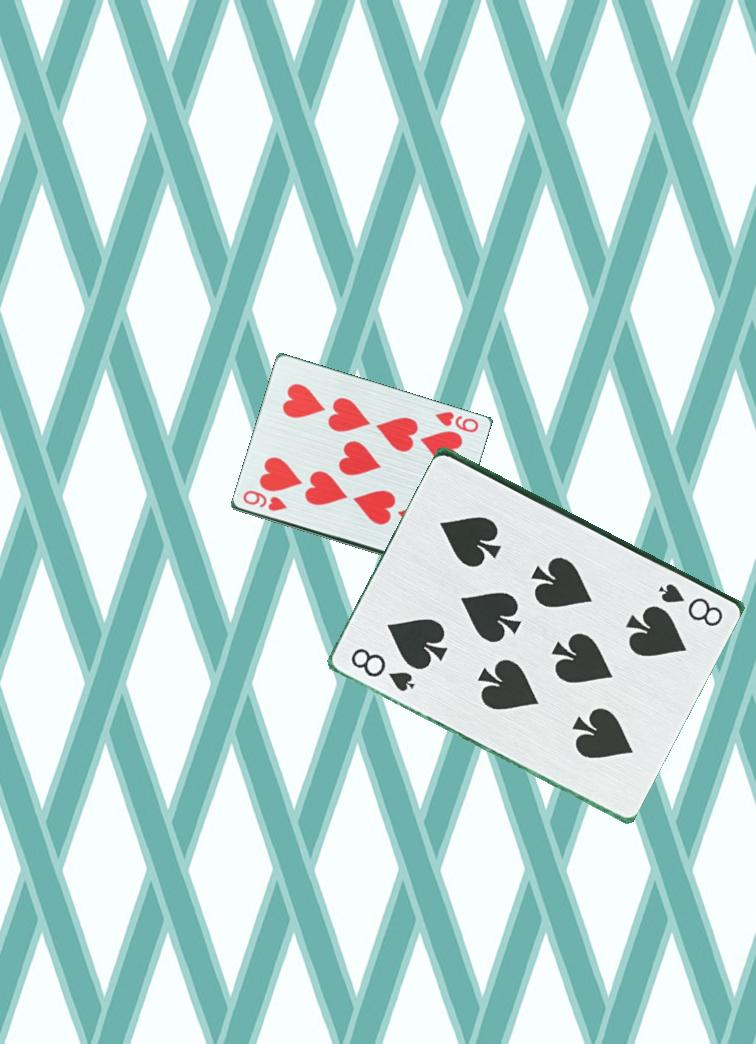8s: (343, 637, 417, 695), (651, 580, 726, 630)
9h: (428, 408, 481, 436), (239, 487, 289, 514)
